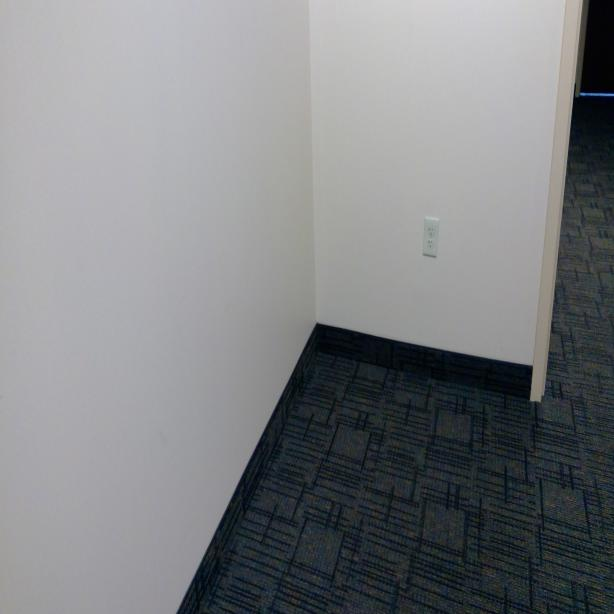typeb: (426, 223, 434, 237), (428, 238, 433, 248)
